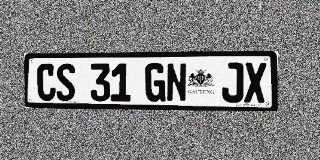1: (111, 63, 131, 102)
3: (90, 63, 110, 101)
C: (37, 64, 56, 101)
G: (145, 63, 165, 102)
J: (222, 62, 244, 103)
N: (166, 63, 187, 102)
S: (56, 64, 75, 101)
X: (244, 62, 266, 103)
